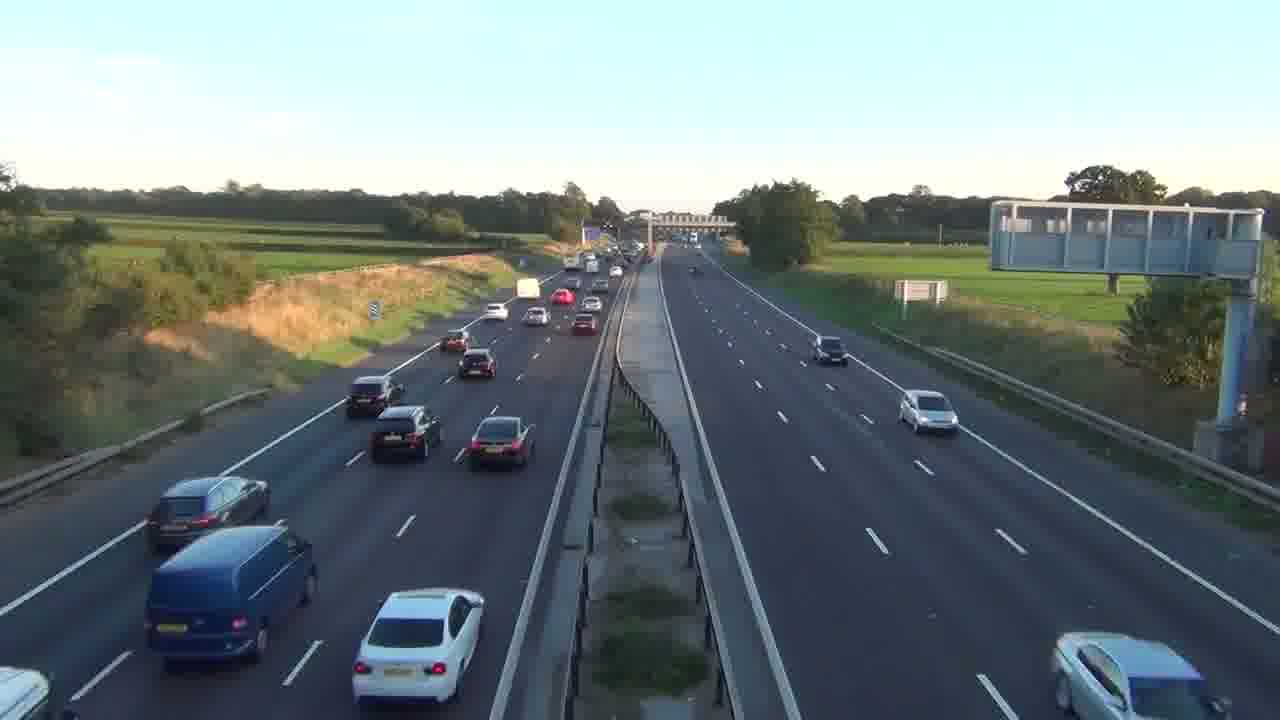car: (351, 587, 486, 710), (1050, 629, 1233, 719), (468, 415, 537, 471), (897, 388, 960, 435), (458, 349, 497, 379), (523, 306, 549, 326)
truck: (143, 520, 321, 666), (143, 475, 271, 554)
